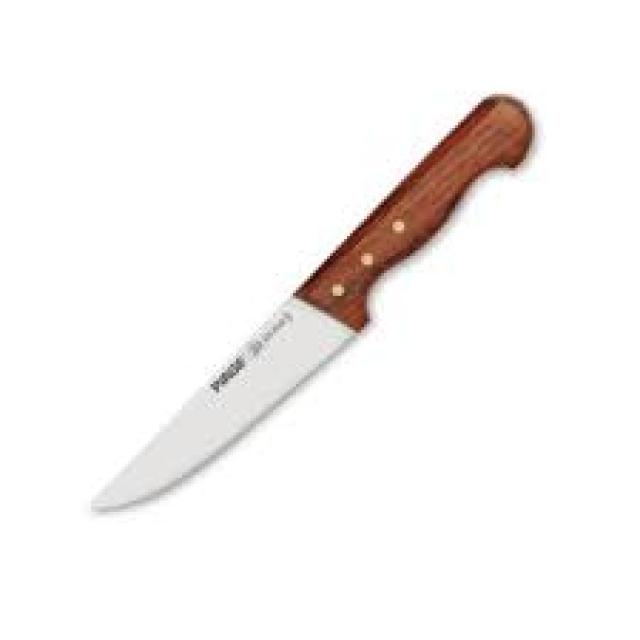Knife: (91, 94, 535, 515)
